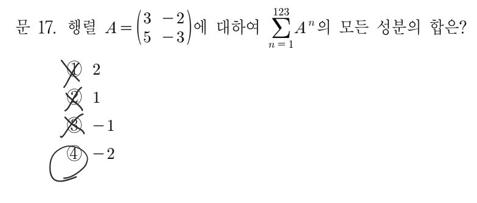1: (47, 143, 91, 181)
paper: (63, 59, 83, 79), (63, 86, 83, 106), (64, 115, 84, 135), (62, 143, 82, 163)
